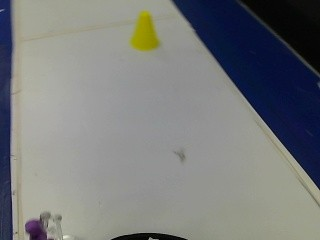cone: (125, 11, 164, 51)
